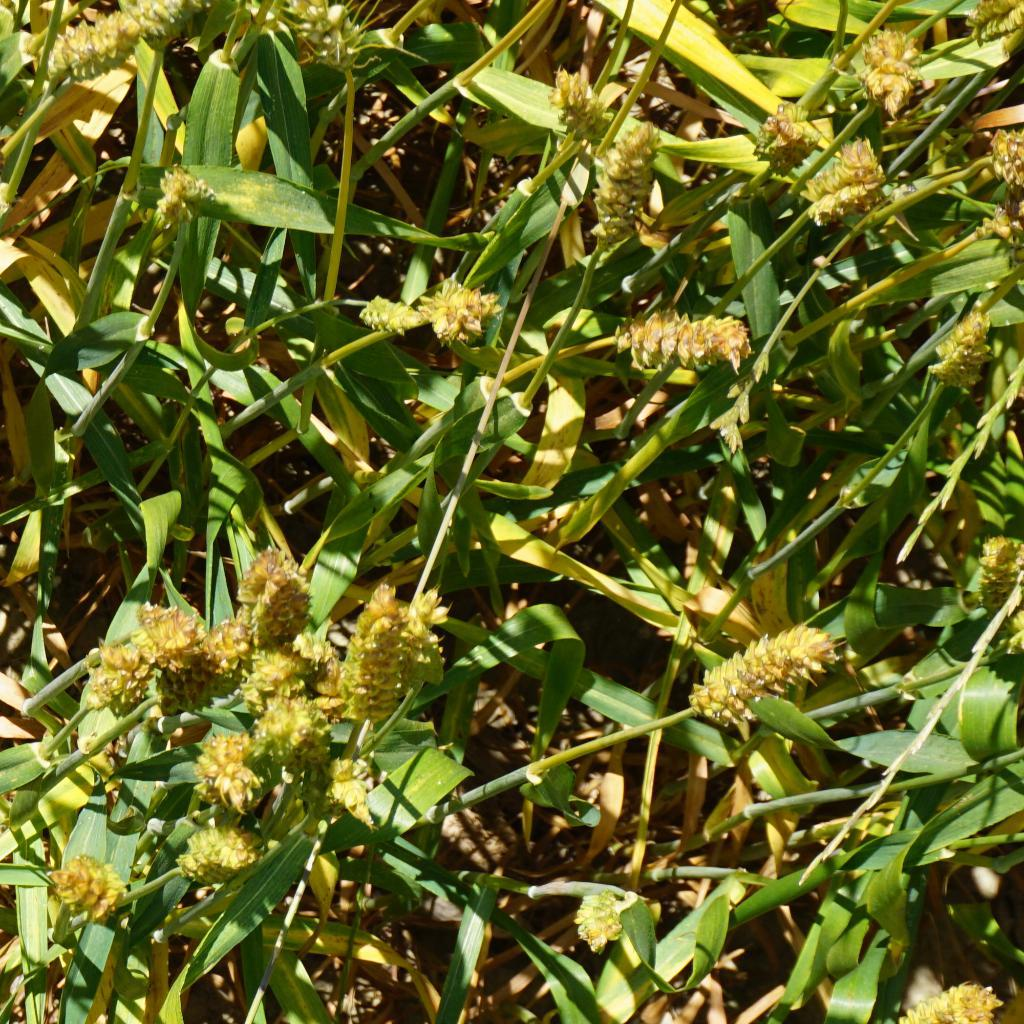0-0: (329, 573, 457, 734), (700, 612, 823, 726), (618, 291, 760, 373), (579, 116, 664, 230), (292, 747, 388, 847), (42, 7, 133, 79), (810, 140, 888, 223), (248, 682, 321, 769), (890, 969, 1002, 1024), (870, 21, 927, 122), (429, 271, 503, 348), (243, 556, 307, 640), (170, 813, 254, 876), (292, 0, 358, 78), (152, 164, 224, 233), (928, 304, 987, 388), (564, 881, 634, 951), (144, 594, 203, 671), (200, 728, 256, 809), (752, 85, 809, 164), (78, 638, 147, 700), (553, 60, 604, 133), (55, 847, 116, 907), (244, 640, 311, 691), (972, 540, 1024, 603), (984, 119, 1024, 196), (963, 0, 1015, 59), (140, 0, 188, 59), (201, 618, 244, 681), (359, 288, 412, 339)
